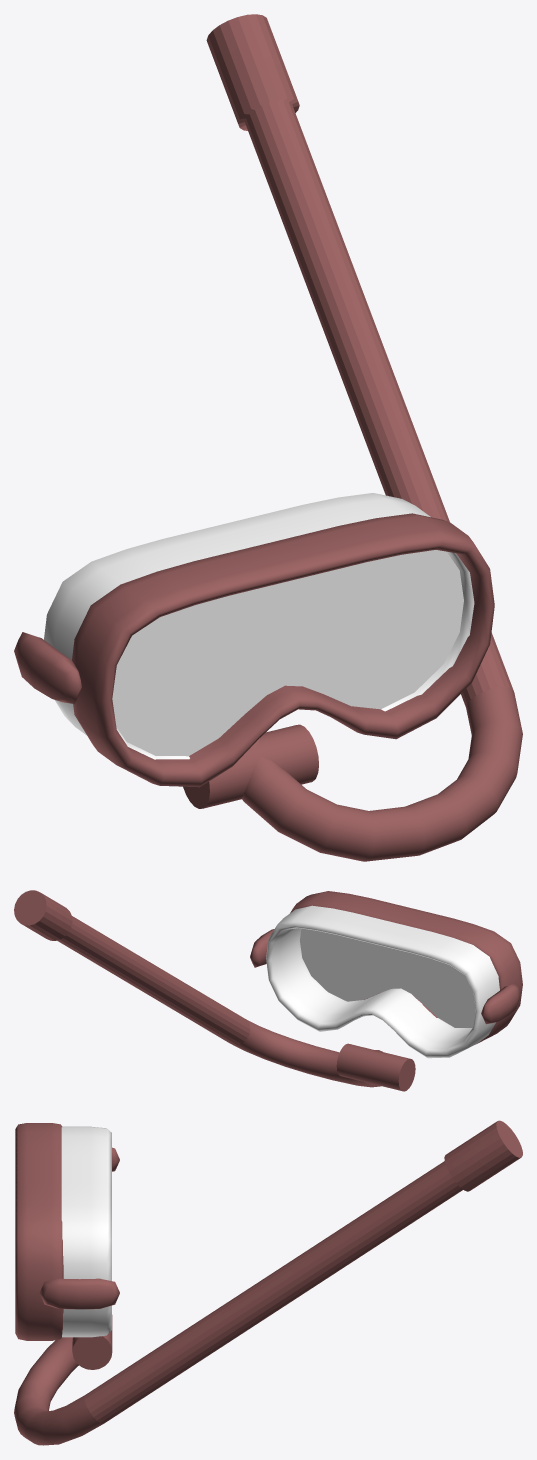
File: シュノーケル.fbx
The picture shows the model from 3 angles, top to bottom: view 1: azimuth 30°, elevation 25°; view 2: azimuth 150°, elevation 25°; view 3: azimuth 270°, elevation 25°; orthographic projection. The views are drawn at different scales.
Parts seen in each view (by area): view 1: Snorkel_lens, Snorkel.001; view 2: Snorkel_lens, Snorkel.001; view 3: Snorkel.001, Snorkel_lens.
Part boxes in pixels (<box>): Snorkel_lens: <box>14,493,494,787</box>; Snorkel.001: <box>183,14,522,861</box>; Snorkel_lens: <box>250,891,522,1058</box>; Snorkel.001: <box>14,890,415,1091</box>; Snorkel.001: <box>14,1120,522,1445</box>; Snorkel_lens: <box>15,1123,119,1340</box>.
Bounding box in the file's own units: 0.2627 × 0.2452 × 0.3109.
